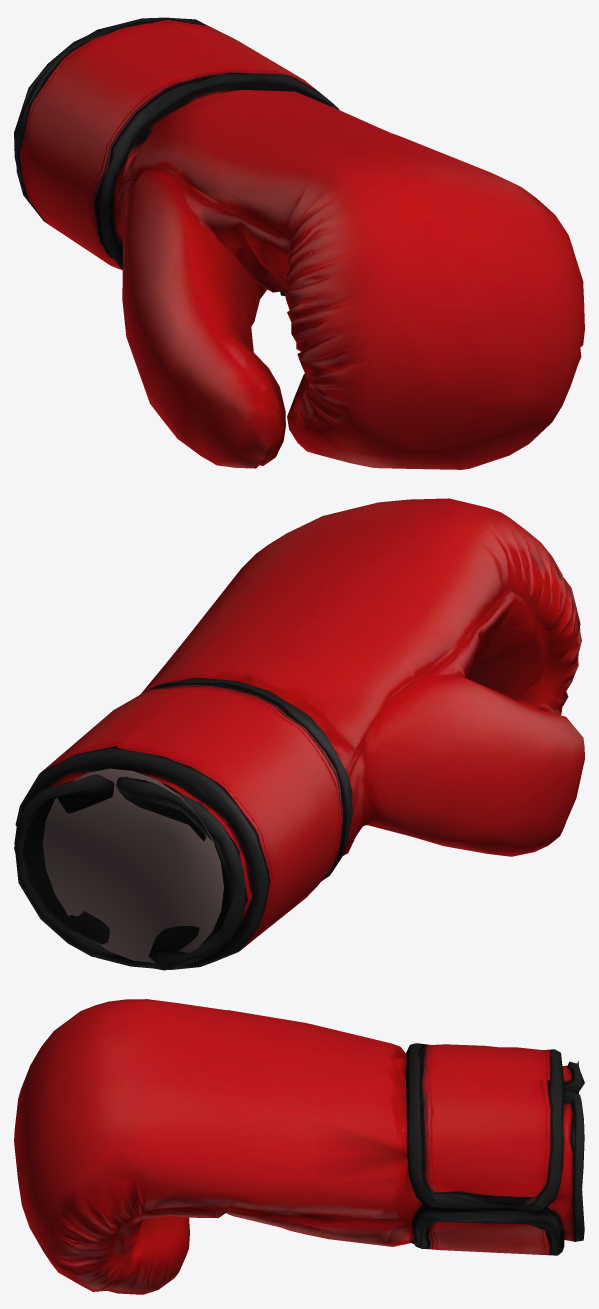
File: boxing-glove-right.glb
The picture shows the model from 3 angles, top to bottom: view 1: azimuth 30°, elevation 25°; view 2: azimuth 150°, elevation 25°; view 3: azimuth 270°, elevation 25°; orthographic projection. The views are drawn at different scales.
Visible parts, largest first — view 1: scrap_glove_right; view 2: scrap_glove_right; view 3: scrap_glove_right.
Part boxes in pixels (x1,y1,x2,y2): scrap_glove_right: (14, 17, 584, 469); scrap_glove_right: (14, 498, 584, 970); scrap_glove_right: (14, 999, 584, 1294).
Bounding box in the file's own units: 0.2177 × 0.1819 × 0.3723.
Materials: 2 (1 with a texture image).
